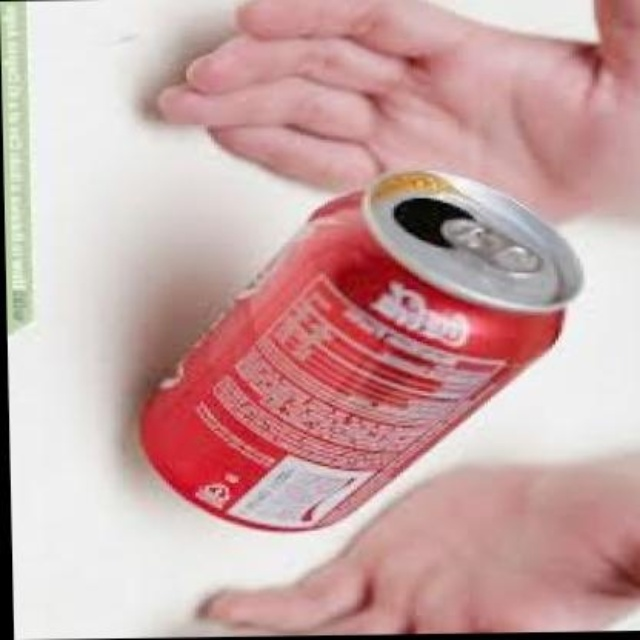trash: (142, 171, 582, 529)
